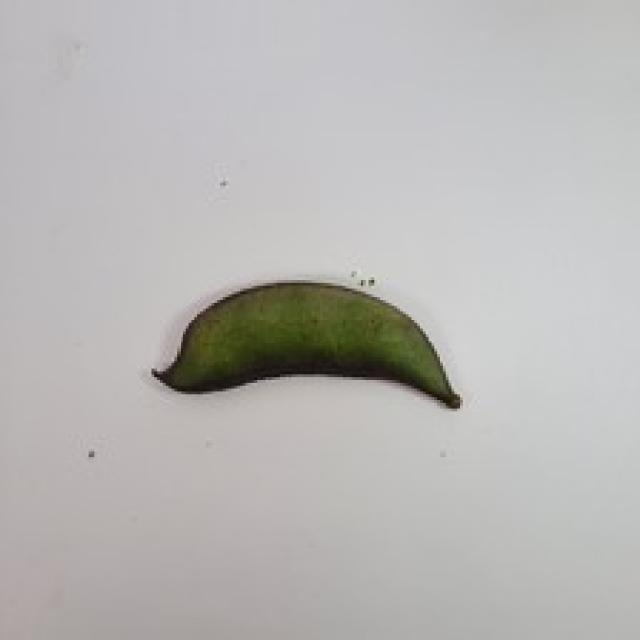Bean: (149, 277, 460, 409)
